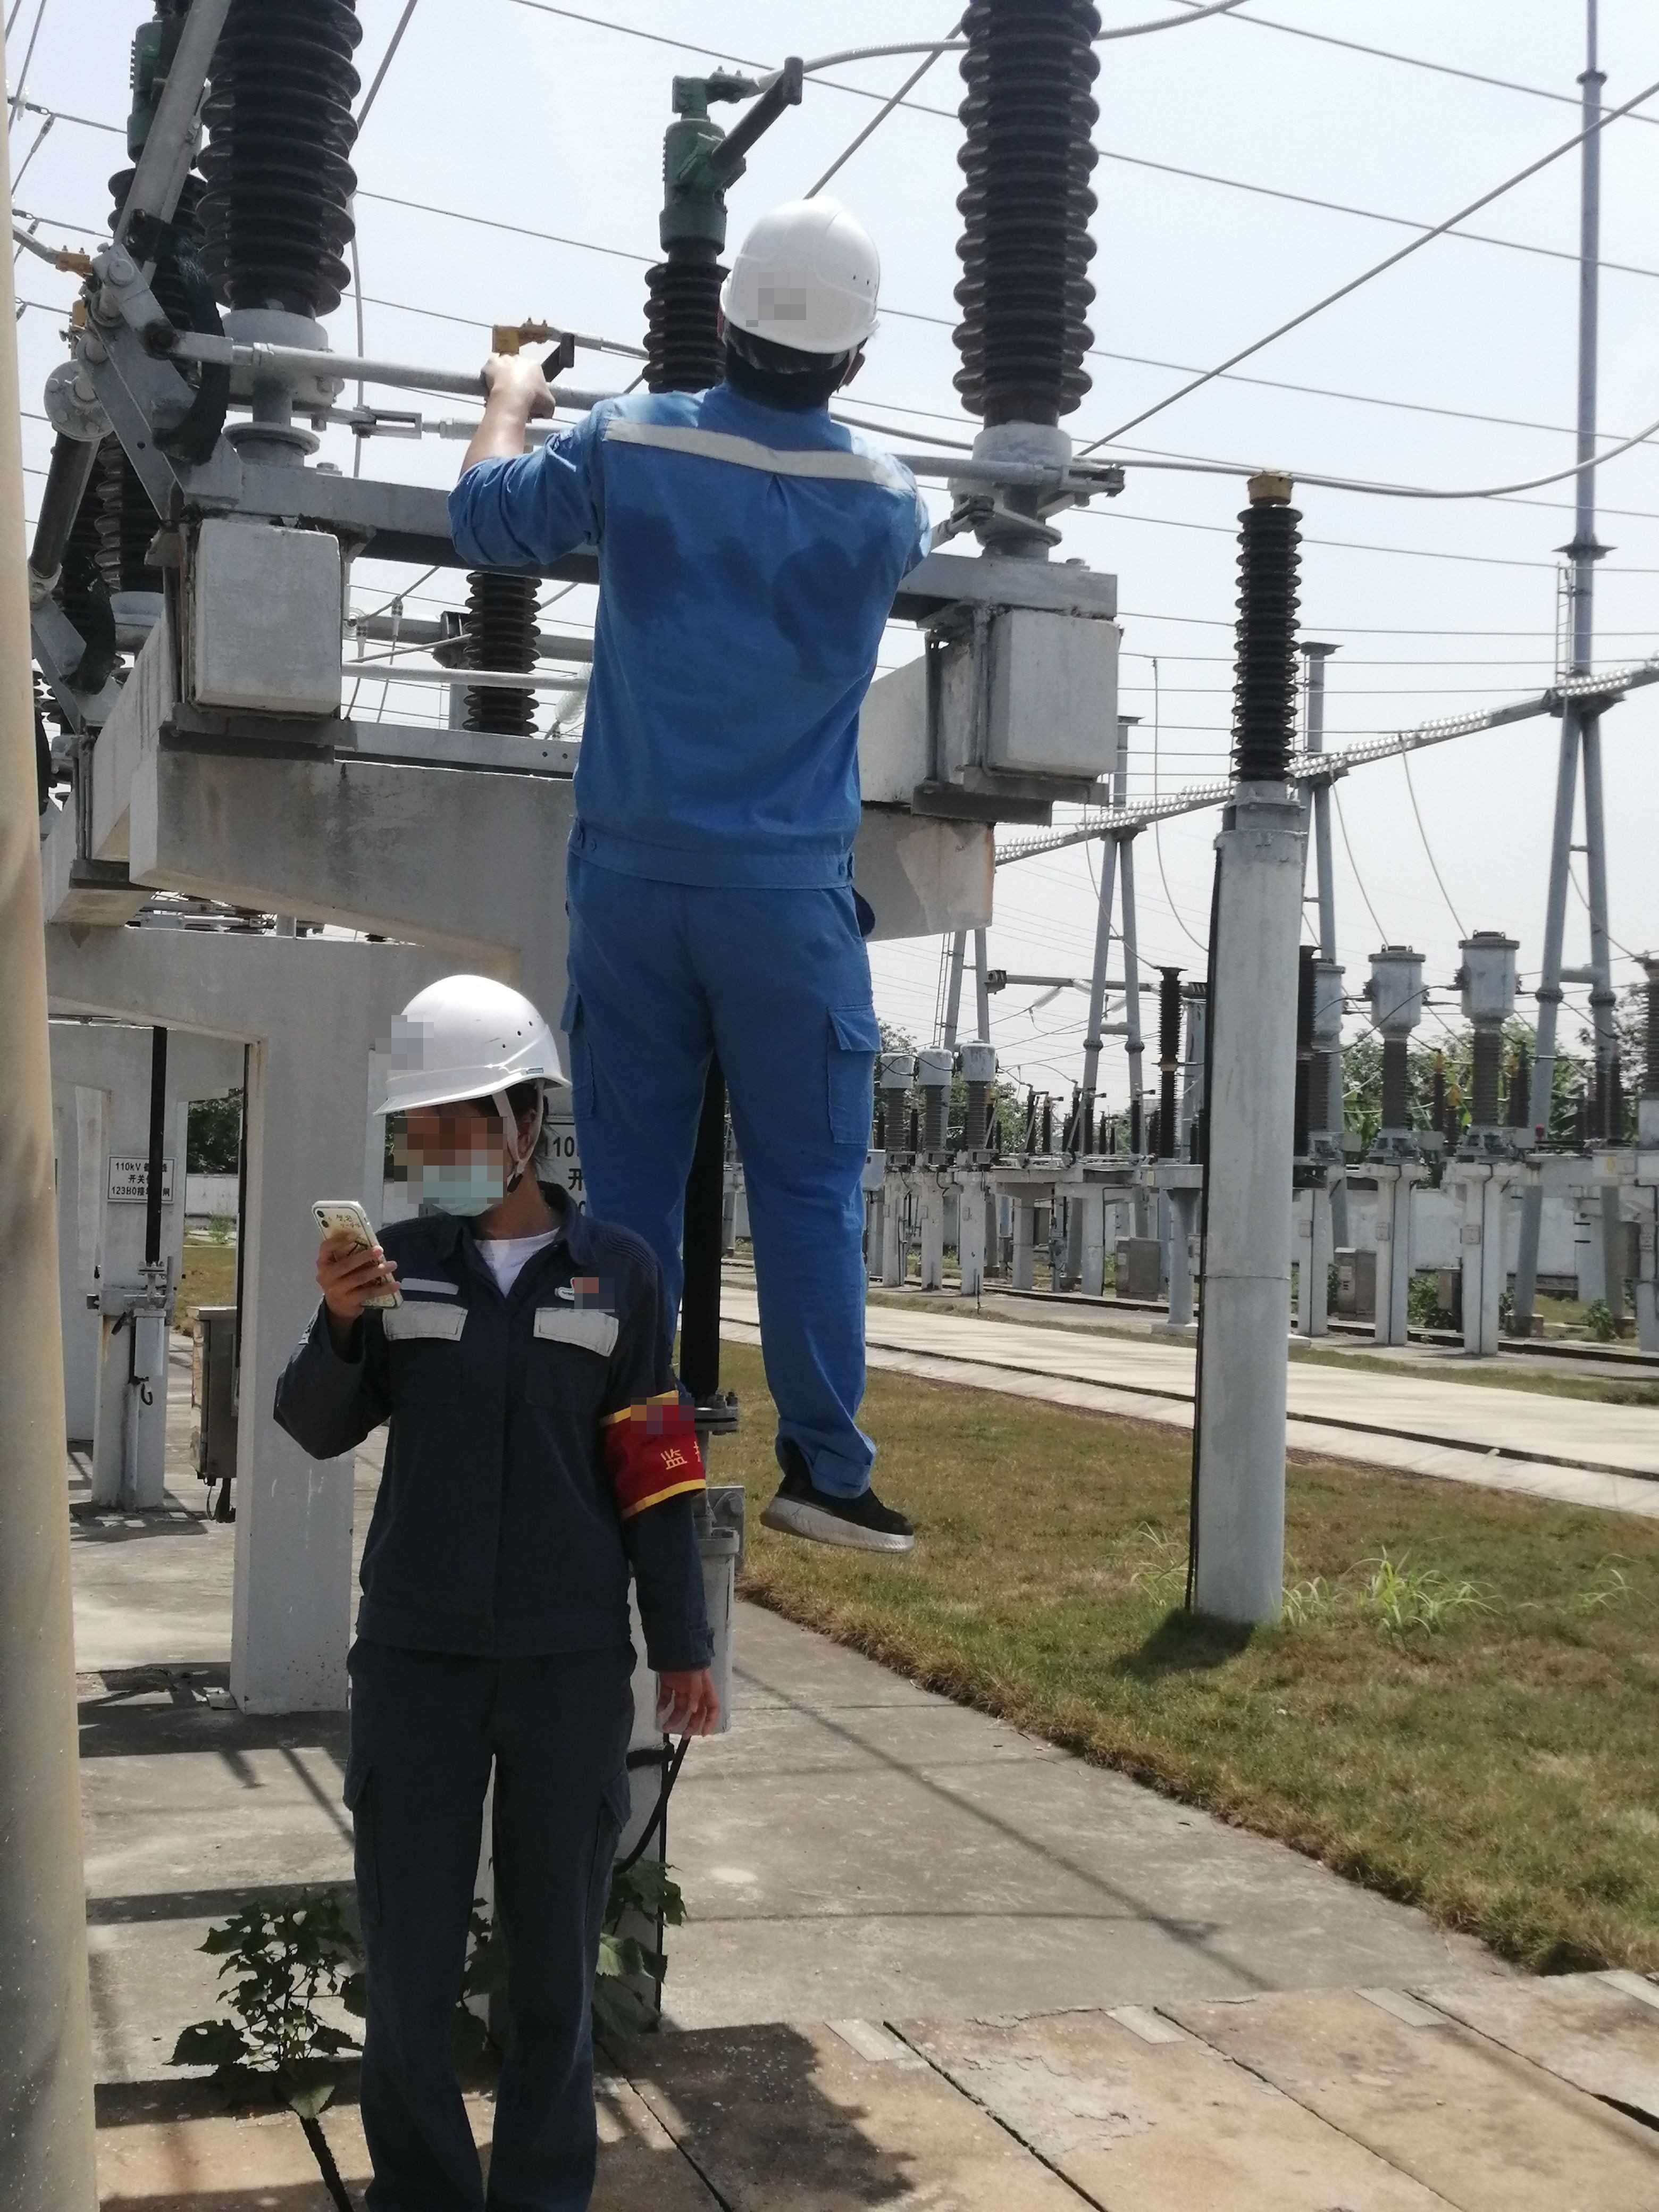downsuit: (561, 894, 885, 1480), (338, 1677, 640, 2212)
upsuit: (448, 385, 931, 888), (275, 1214, 716, 1656)
wrongtop: (448, 350, 566, 507)
